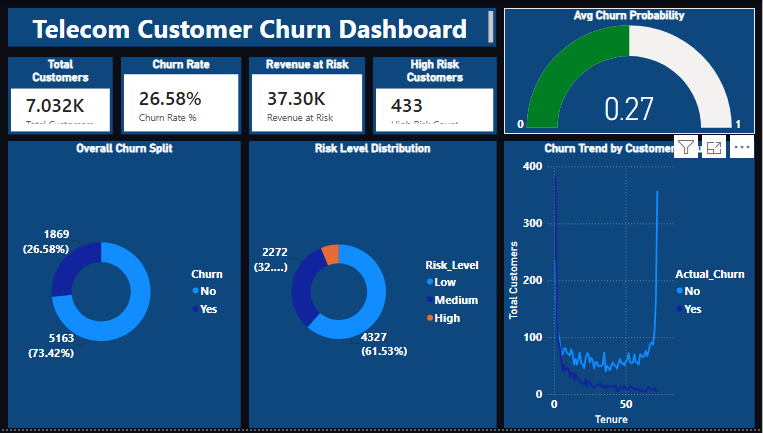

The page's visual inventory and layout, read from the dashboard file:
{"tool":"powerbi","page":{"name":"Executive Summary","canvas":[1280,720],"ordinal":0},"visuals":[{"type":"donutChart","title":"Overall Churn Split","fields":{"Category":["churn_predictions.Churn"],"Y":["churn_predictions.Total Customers"]},"box":[14.1,237.7,390.9,482.4],"z":0},{"type":"donutChart","title":"Risk Level Distribution","fields":{"Category":["churn_predictions.Risk_Level"],"Y":["churn_predictions.Total Customers"]},"box":[419,237.7,415.5,482.4],"z":1000},{"type":"lineChart","title":"Churn Trend by Customer Tenure","fields":{"Category":["churn_predictions.tenure"],"Y":["churn_predictions.Total Customers"],"Series":["churn_predictions.Actual_Churn"]},"box":[846.9,237.7,420.8,482.4],"z":2000},{"type":"gauge","fields":{"Y":["churn_predictions.Avg Churn Probability"]},"box":[846.9,14.1,420.8,211.3],"z":3000},{"type":"cardVisual","title":"Total Customers","fields":{"Data":["churn_predictions.Total Customers"]},"box":[14.1,95.1,176.1,130.3],"z":4000},{"type":"cardVisual","title":"Churn Rate","fields":{"Data":["churn_predictions.Churn Rate %"]},"box":[202.5,95.1,202.5,130.3],"z":5000},{"type":"cardVisual","title":"Revenue at Risk","fields":{"Data":["churn_predictions.Revenue at Risk"]},"box":[419,95.1,195.4,130.3],"z":6000},{"type":"cardVisual","title":"High Risk Customers","fields":{"Data":["churn_predictions.High Risk Count"]},"box":[626.8,95.1,207.8,130.3],"z":7000},{"type":"textbox","box":[14.1,14.1,820.5,65.1],"z":8000}]}

Visuals, with their boxes in screenshot pixels (x1, y1, x2, y2), scaled from the page's 1280x720 canvas onto the 763x433 screenshot:
"Overall Churn Split" donutChart: BBox(8, 143, 241, 432)
"Risk Level Distribution" donutChart: BBox(250, 143, 497, 432)
"Churn Trend by Customer Tenure" lineChart: BBox(505, 143, 756, 432)
gauge - churn_predictions.Avg Churn Probability: BBox(505, 8, 756, 136)
"Total Customers" cardVisual: BBox(8, 57, 113, 136)
"Churn Rate" cardVisual: BBox(121, 57, 241, 136)
"Revenue at Risk" cardVisual: BBox(250, 57, 366, 136)
"High Risk Customers" cardVisual: BBox(374, 57, 497, 136)
textbox: BBox(8, 8, 497, 48)
